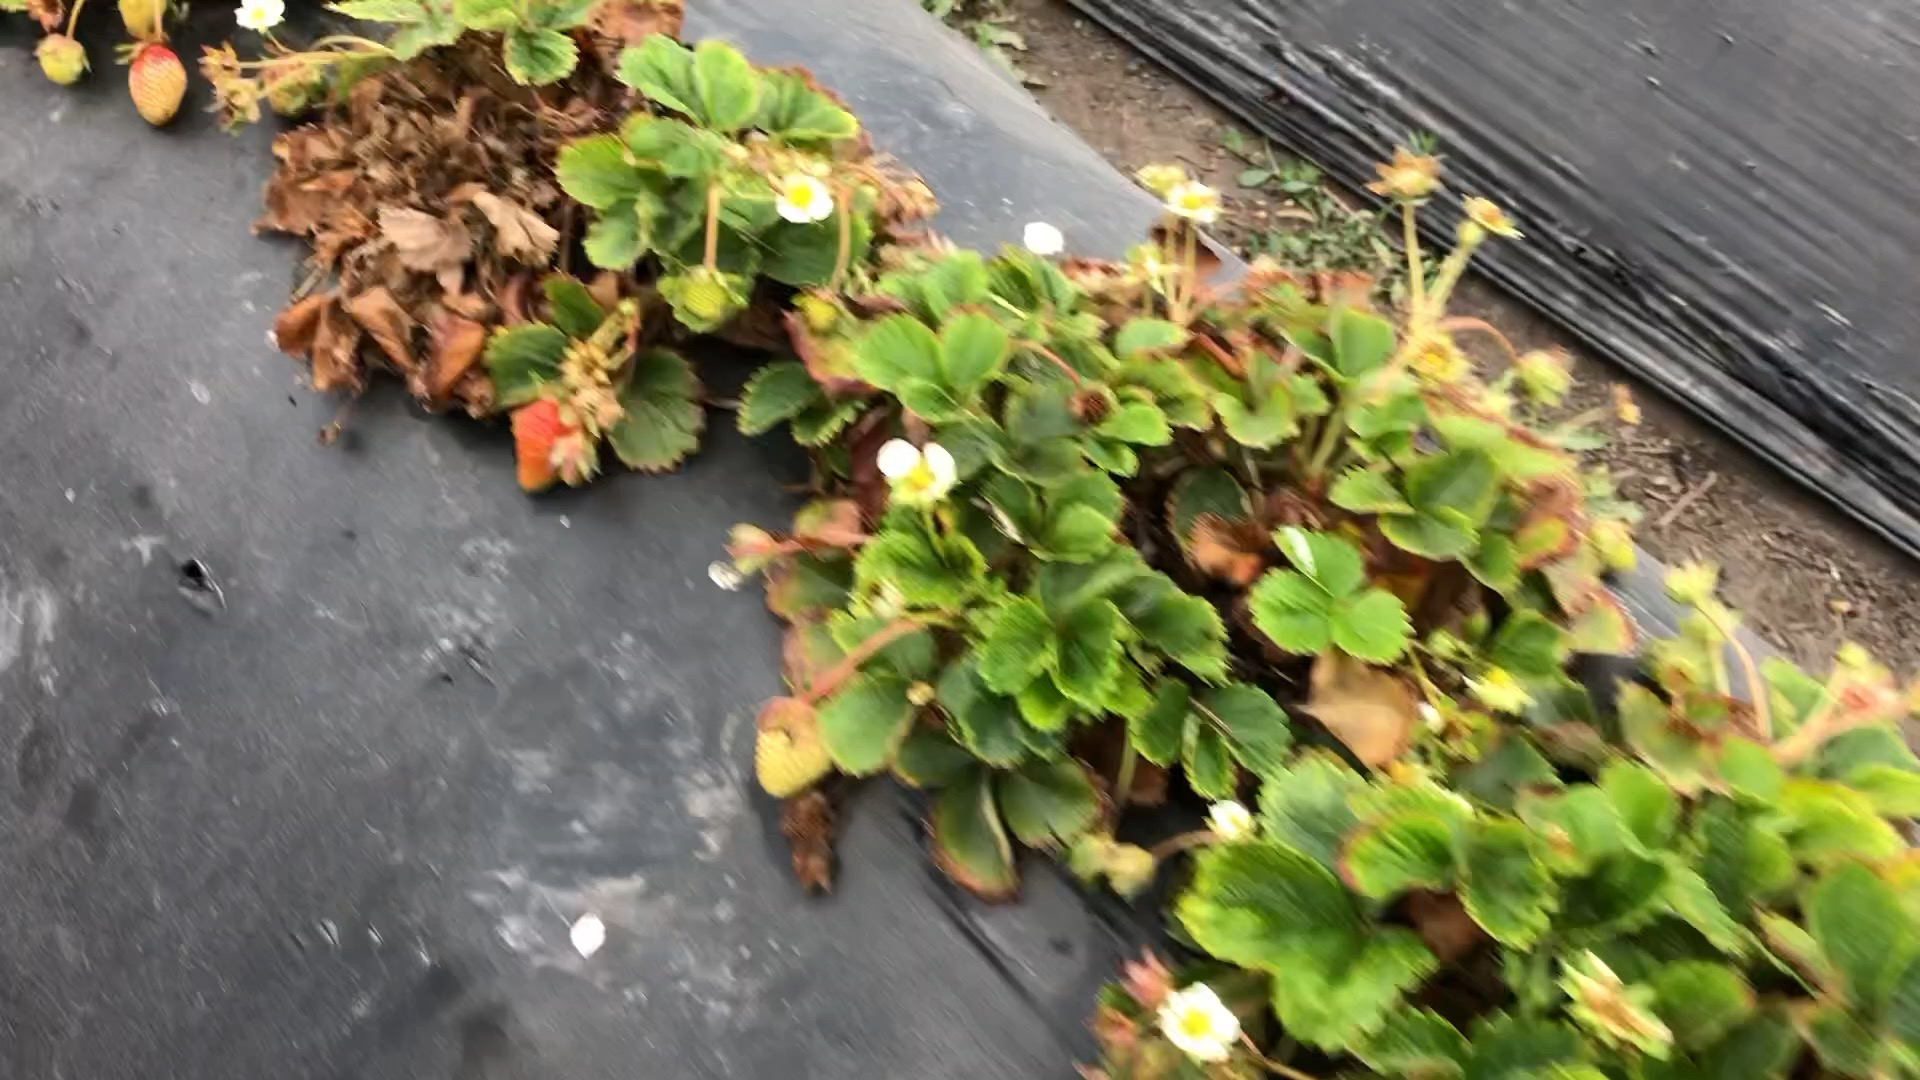unripe_strawberry: (754, 698, 840, 800), (510, 390, 579, 501), (120, 36, 191, 127), (36, 28, 90, 87), (678, 266, 732, 324), (798, 285, 847, 343)
